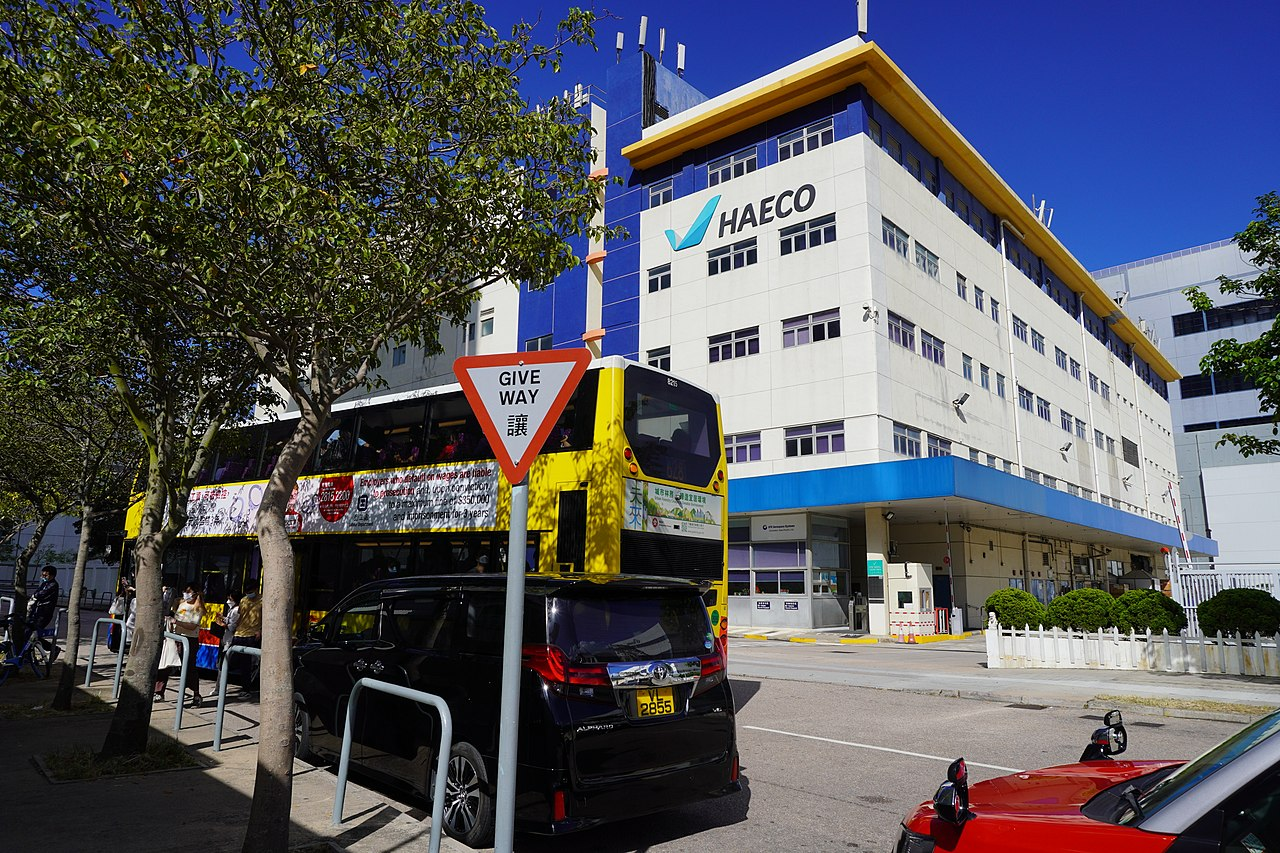Give Way: (450, 351, 590, 485)
